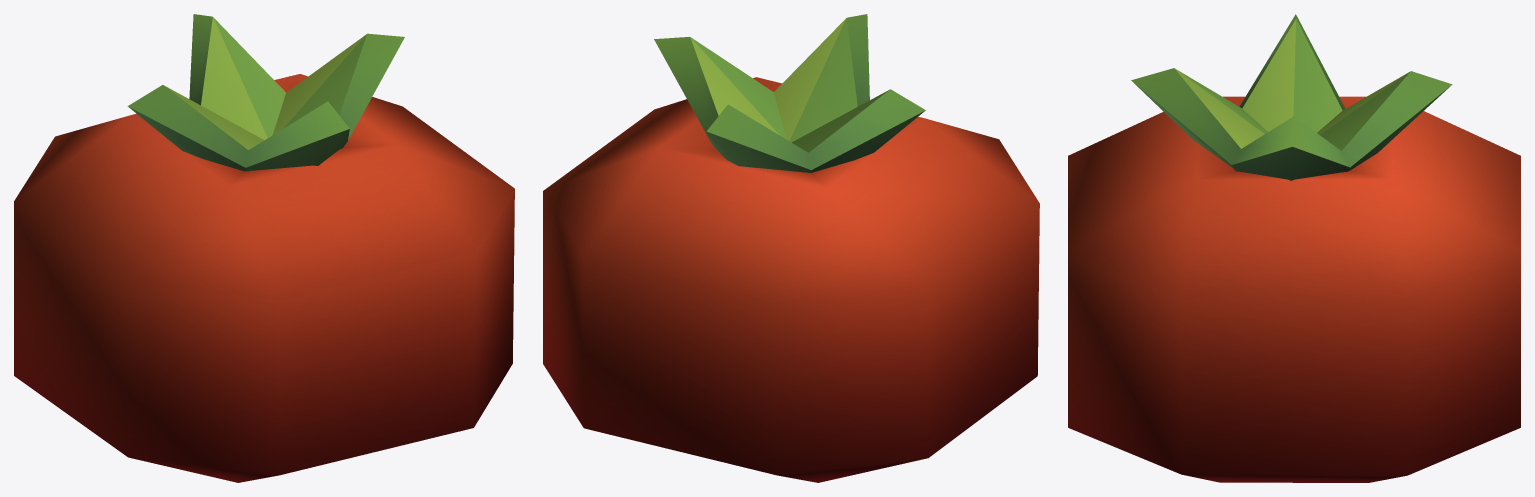
Rendered from tomato.fbx.
3 renders of one model, left to right at view 1: azimuth 30°, elevation 25°; view 2: azimuth 150°, elevation 25°; view 3: azimuth 270°, elevation 25°, orthographic.
Visible parts, largest first — view 1: tomato; view 2: tomato; view 3: tomato.
Part boxes in pixels (bbox=[...]): tomato: bbox=[14, 14, 514, 482]; tomato: bbox=[543, 14, 1039, 482]; tomato: bbox=[1068, 14, 1520, 482].
Bounding box in the file's own units: 18.23 × 17.13 × 18.23.
